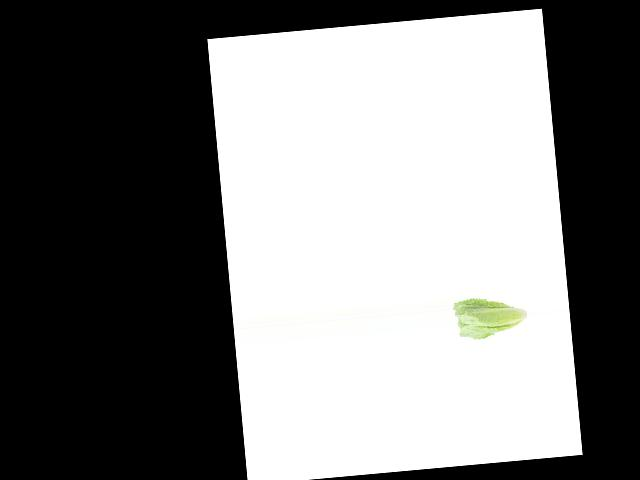lettuce: (452, 291, 528, 346)
